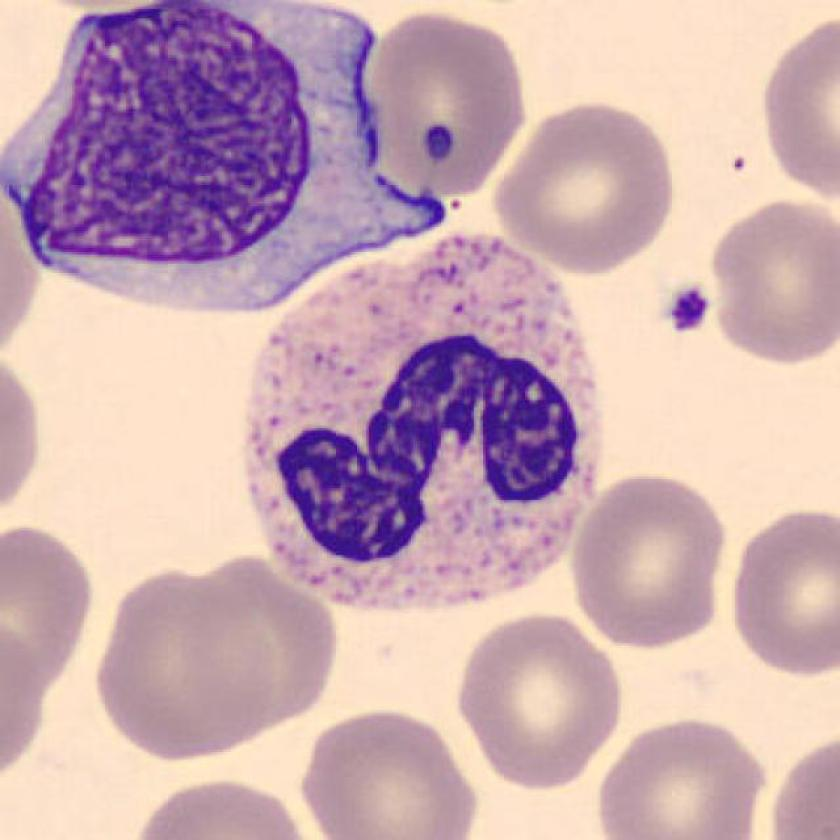lymphocyte: (1, 1, 446, 304)
neutrophil: (249, 240, 600, 609)
